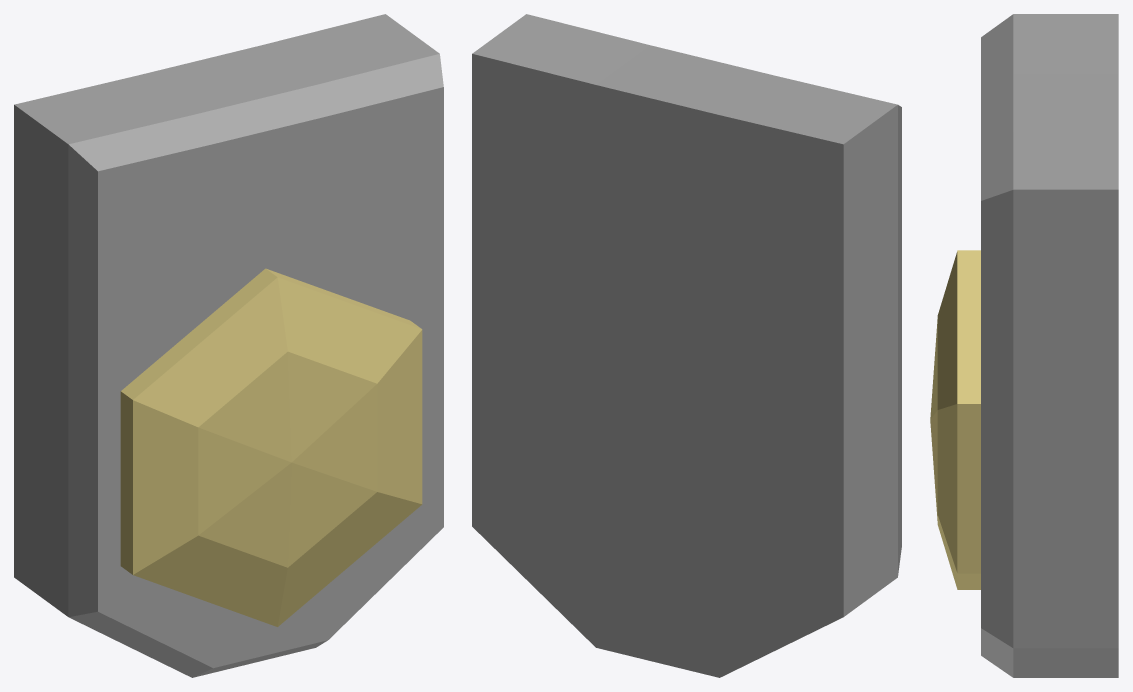
File: ceiling_fan-switch.fbx
The picture shows the model from 3 angles, left to right: view 1: azimuth 30°, elevation 25°; view 2: azimuth 150°, elevation 25°; view 3: azimuth 270°, elevation 25°; orthographic projection. The views are drawn at different scales.
Parts seen in each view (by area): view 1: Sphere; view 2: Sphere; view 3: Sphere.
Part boxes in pixels (box(x1,y1,x2,y2)): Sphere: box(14, 14, 443, 677); Sphere: box(472, 14, 901, 677); Sphere: box(930, 14, 1118, 677).
Bounding box in the file's own units: 45.37 × 65.81 × 20.56.
